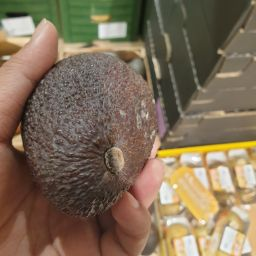Avocado: (20, 43, 160, 229), (22, 54, 155, 210)
